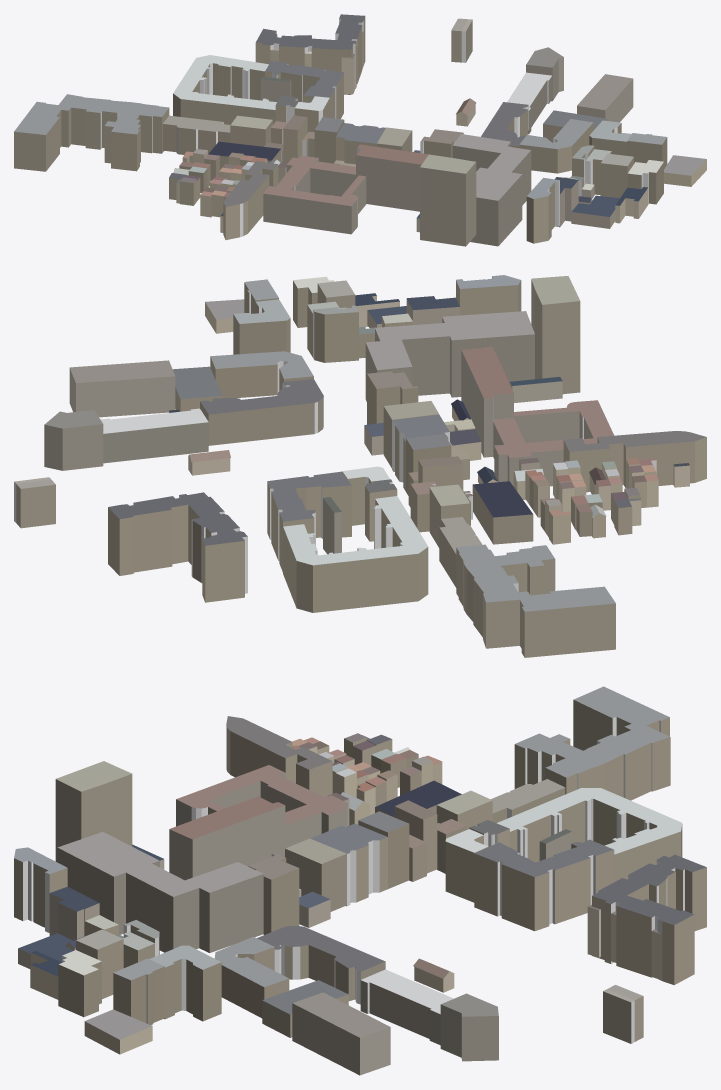
3 renders of one model, top to bottom at view 1: azimuth 30°, elevation 25°; view 2: azimuth 150°, elevation 25°; view 3: azimuth 270°, elevation 25°, orthographic. The views are drawn at different scales.
Visible parts, largest first — view 1: tuile; view 2: tuile; view 3: tuile.
Boxes of the visible parts, x1,y1,x2,y2 form: tuile: (14, 14, 706, 246); tuile: (14, 275, 706, 657); tuile: (14, 686, 706, 1075).
Bounding box in the file's own units: 314 × 51.66 × 270.
